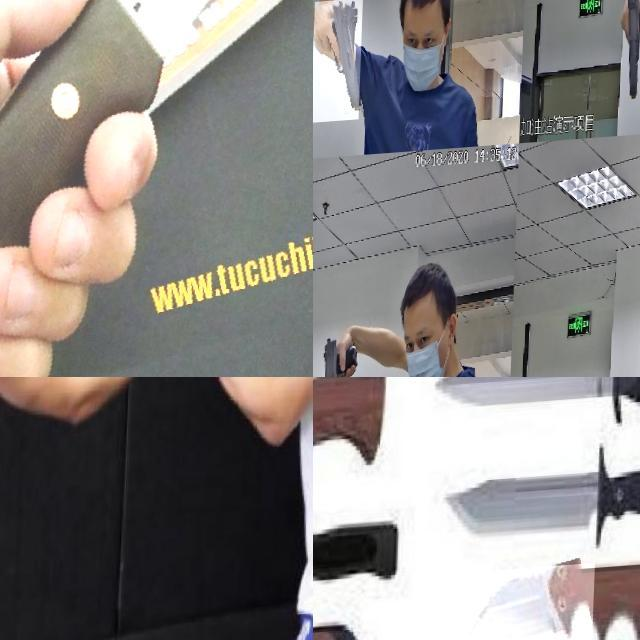-: (0, 0, 313, 377), (432, 459, 631, 568), (425, 377, 623, 463), (313, 516, 401, 637), (446, 570, 597, 640), (313, 377, 459, 442), (313, 381, 402, 471), (151, 377, 272, 426), (470, 377, 619, 411)
gun-knife-thesis - v11 Yolov5 augmented: (313, 0, 364, 124), (617, 0, 640, 106), (322, 334, 361, 377)
